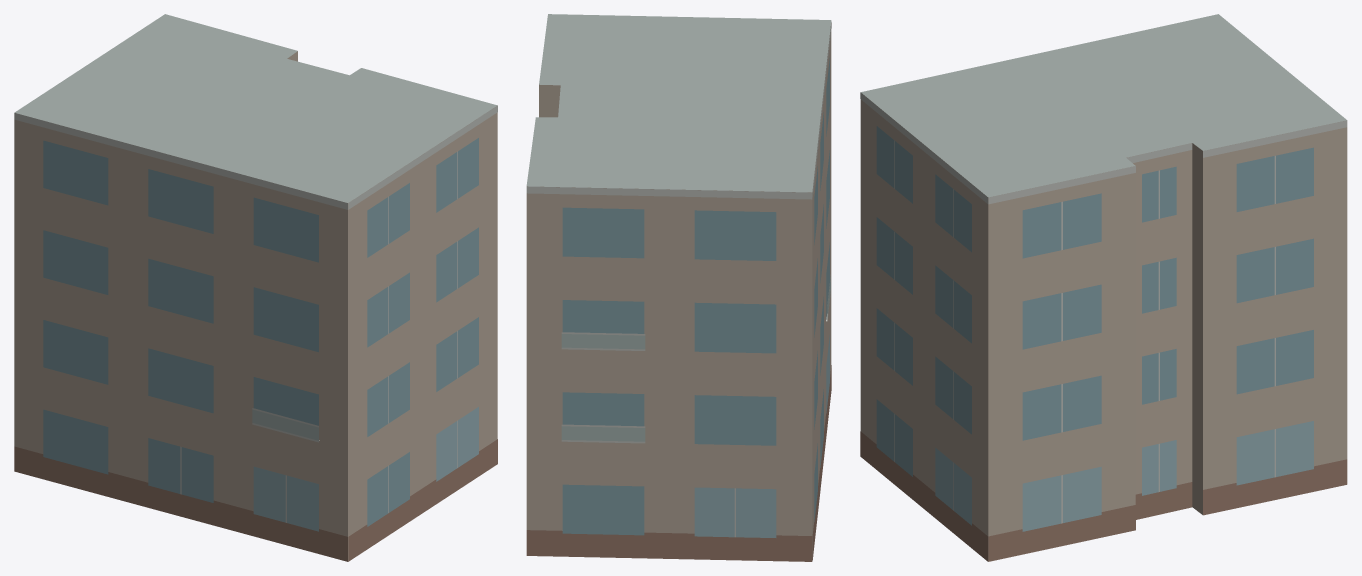
The model's file is survey-upis-32724068.glb.
3 views of the same model, side by side, from view 1: azimuth 30°, elevation 25°; view 2: azimuth 150°, elevation 25°; view 3: azimuth 270°, elevation 25° (orthographic). The views are drawn at different scales.
Visible parts, largest first — view 1: survey-upis-32724068.tmp; view 2: survey-upis-32724068.tmp; view 3: survey-upis-32724068.tmp.
Part boxes in pixels (bbox=[...]): survey-upis-32724068.tmp: bbox=[14, 14, 497, 561]; survey-upis-32724068.tmp: bbox=[526, 14, 831, 561]; survey-upis-32724068.tmp: bbox=[860, 14, 1347, 561].
Bounding box in the file's own units: 13.83 × 12.8 × 15.51.
